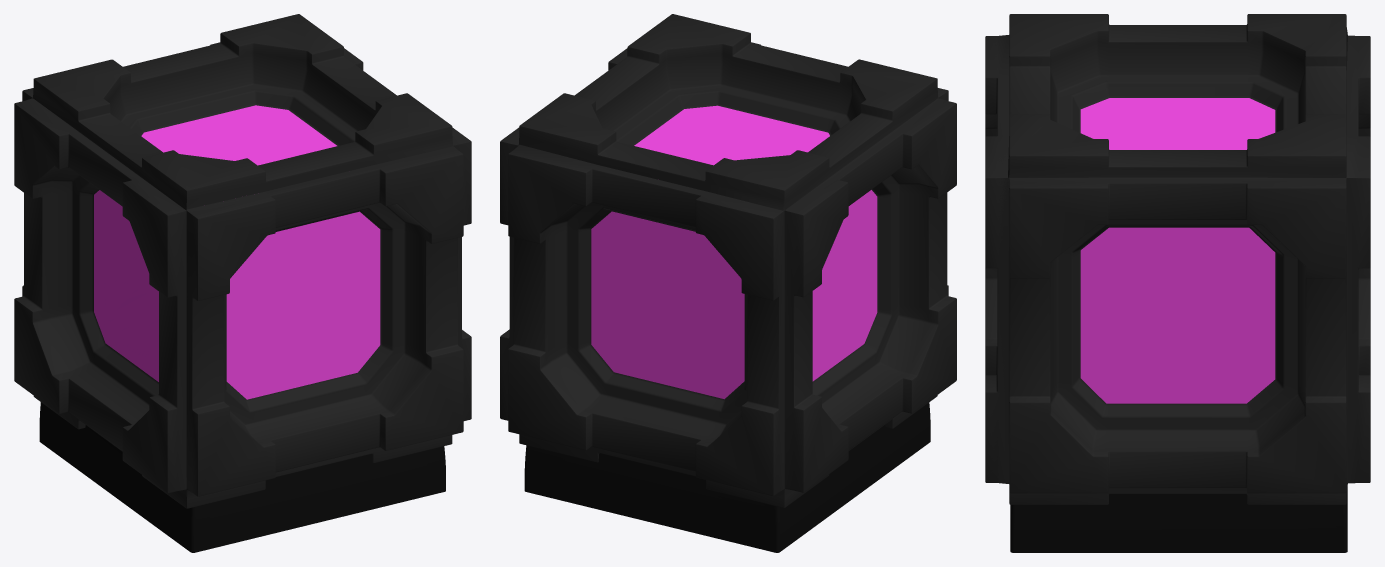
The model's file is Artisan_Cube.FBX.
3 renders of one model, left to right at view 1: azimuth 30°, elevation 25°; view 2: azimuth 150°, elevation 25°; view 3: azimuth 270°, elevation 25°, orthographic. The views are drawn at different scales.
Visible parts, largest first — view 1: Carton Box Smooth, _STL_BINARY_002; view 2: Carton Box Smooth, _STL_BINARY_002; view 3: Carton Box Smooth, _STL_BINARY_002.
Boxes of the visible parts, box(x1,y1,x2,y2) form: Carton Box Smooth: box(14, 14, 471, 508); _STL_BINARY_002: box(39, 402, 445, 552); Carton Box Smooth: box(500, 14, 956, 507); _STL_BINARY_002: box(524, 402, 930, 552); Carton Box Smooth: box(985, 14, 1370, 504); _STL_BINARY_002: box(1010, 487, 1347, 552).
Size of the model in its own units: 20.81 by 23.81 by 20.81.
